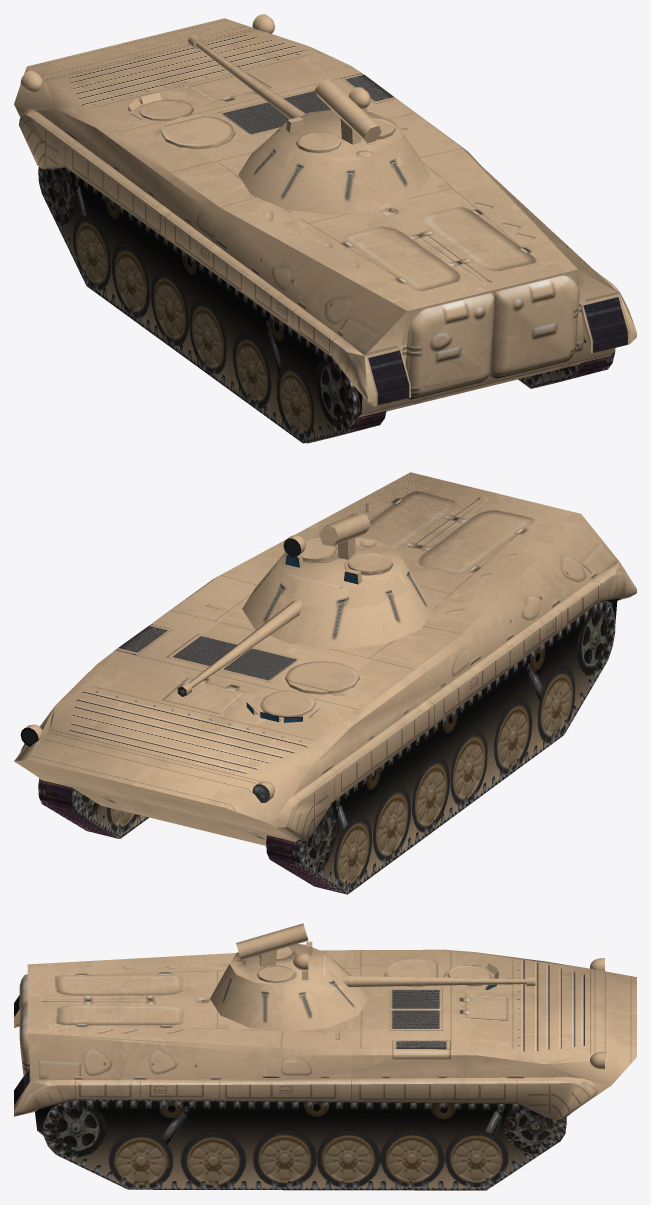
File: BMP-2_Tan.dae
The picture shows the model from 3 angles, top to bottom: view 1: azimuth 30°, elevation 25°; view 2: azimuth 150°, elevation 25°; view 3: azimuth 270°, elevation 25°; orthographic projection. The views are drawn at different scales.
Parts seen in each view (by area): view 1: hull, lft_cleat_6, hull_11, hull_19, turret_4, aft_door_01, aft_door_02, commander_coupola, aft_door_3, turret_8, agtm, aft_door_2 (+4 smaller); view 2: hull, lft_cleat_6, hull_11, turret_4, hull_19, rgt_cleat, commander_coupola, barrel_8, driver_coupola_1, agtm, lft_cleat_hi, rgt_cleat_4 (+4 smaller); view 3: hull, rgt_cleat_4, hull_11, hull_19, turret_4, barrel_8, agtm, commander_coupola, turret_8, aft_door_02, driver_coupola_27, driver_coupola_1.
Boxes of the visible parts, bbox=[...] form: hull: bbox=[14, 18, 636, 406]; lft_cleat_6: bbox=[38, 167, 382, 443]; hull_11: bbox=[14, 22, 614, 417]; hull_19: bbox=[213, 165, 619, 417]; turret_4: bbox=[238, 110, 430, 215]; aft_door_01: bbox=[405, 293, 494, 397]; aft_door_02: bbox=[490, 275, 579, 376]; commander_coupola: bbox=[161, 115, 235, 149]; aft_door_3: bbox=[511, 293, 573, 352]; turret_8: bbox=[280, 112, 402, 157]; agtm: bbox=[315, 78, 381, 143]; aft_door_2: bbox=[420, 311, 487, 385]; hull: bbox=[20, 472, 636, 842]; lft_cleat_6: bbox=[273, 601, 615, 894]; hull_11: bbox=[14, 473, 630, 845]; turret_4: bbox=[242, 537, 433, 649]; hull_19: bbox=[15, 514, 619, 837]; rgt_cleat: bbox=[42, 781, 149, 838]; commander_coupola: bbox=[285, 660, 359, 694]; barrel_8: bbox=[188, 598, 302, 688]; driver_coupola_1: bbox=[260, 690, 313, 717]; agtm: bbox=[319, 513, 370, 546]; lft_cleat_hi: bbox=[266, 835, 342, 893]; rgt_cleat_4: bbox=[38, 778, 114, 837]; hull: bbox=[14, 949, 636, 1119]; rgt_cleat_4: bbox=[43, 1099, 566, 1190]; hull_11: bbox=[14, 950, 636, 1135]; hull_19: bbox=[27, 1033, 608, 1119]; turret_4: bbox=[210, 944, 368, 1032]; barrel_8: bbox=[341, 975, 526, 987]; agtm: bbox=[236, 923, 308, 960]; commander_coupola: bbox=[384, 959, 445, 987]; turret_8: bbox=[230, 950, 330, 982]; aft_door_02: bbox=[19, 1003, 29, 1075]; driver_coupola_27: bbox=[257, 965, 294, 983]; driver_coupola_1: bbox=[448, 966, 492, 986].
Size of the model in its own units: 2.74 by 6.64 by 2.49.
Materials: 3 (3 with a texture image).
